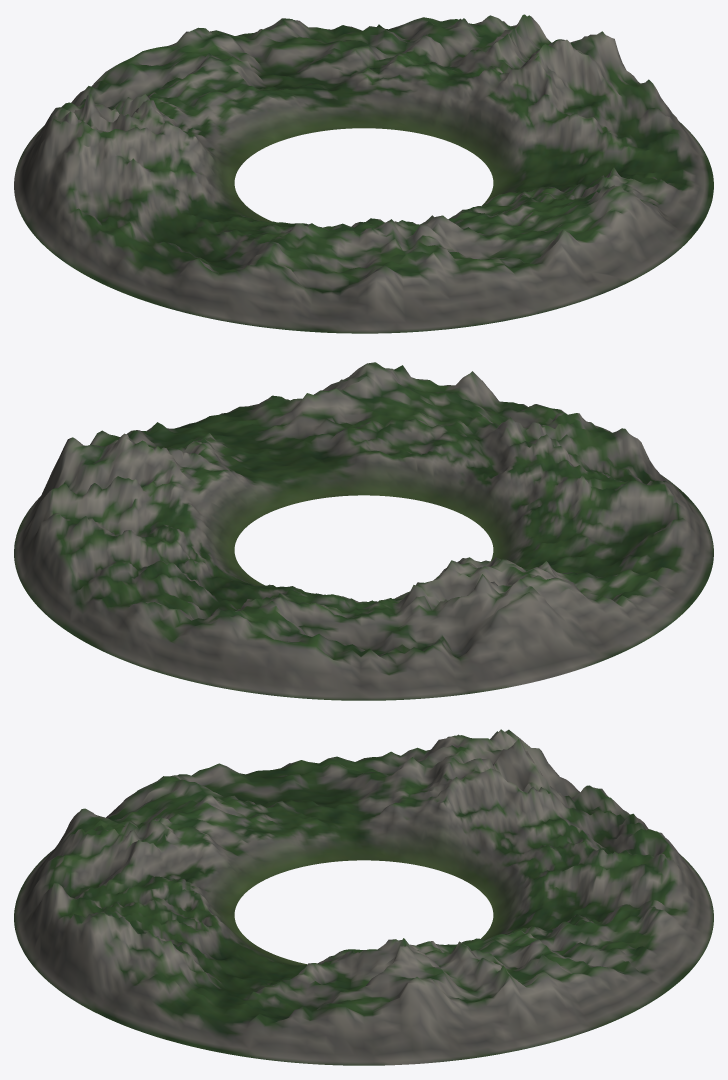
File: montanhas.glb
3 renders of one model, top to bottom at view 1: azimuth 30°, elevation 25°; view 2: azimuth 150°, elevation 25°; view 3: azimuth 270°, elevation 25°, orthographic.
Parts seen in each view (by area): view 1: Montanhas; view 2: Montanhas; view 3: Montanhas.
Boxes of the visible parts, x1,y1,x2,y2 form: Montanhas: [14, 14, 713, 333]; Montanhas: [14, 362, 713, 700]; Montanhas: [14, 729, 713, 1065].
Bounding box in the file's own units: 1720 × 226 × 1720.
